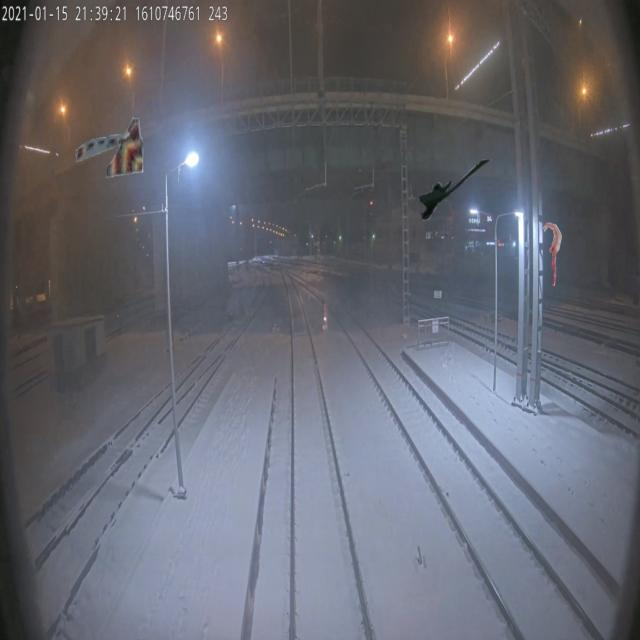floating object: (420, 158, 494, 222), (75, 114, 148, 178), (543, 222, 562, 286)
